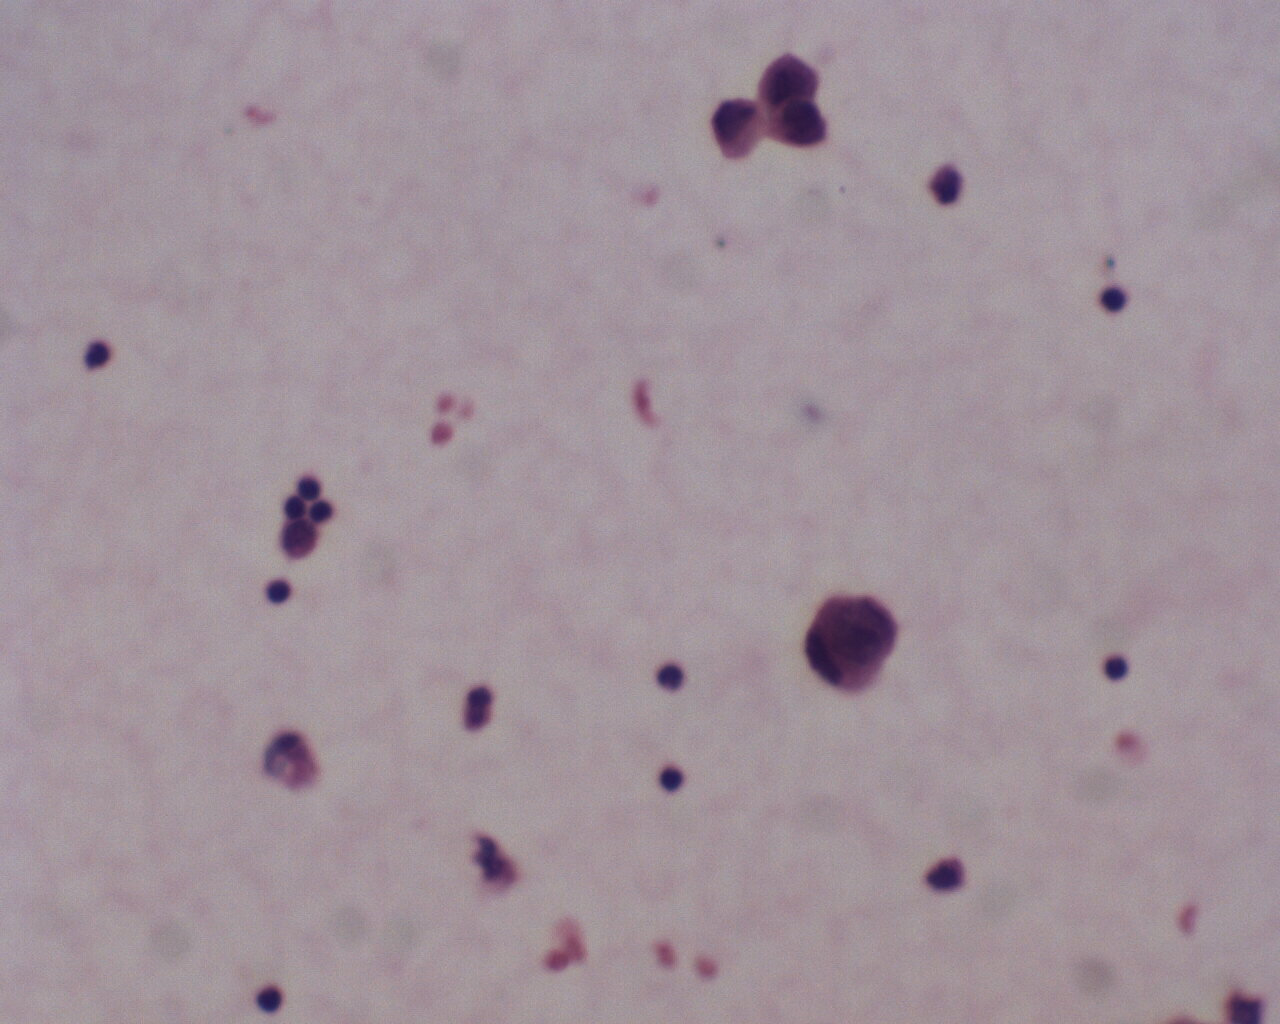ab: (796, 585, 904, 699), (709, 93, 772, 166), (758, 48, 824, 110), (770, 97, 833, 150)
lymph: (651, 754, 695, 799), (261, 572, 295, 616), (1095, 648, 1133, 688), (254, 978, 290, 1017), (1096, 282, 1134, 318), (654, 656, 689, 694)
